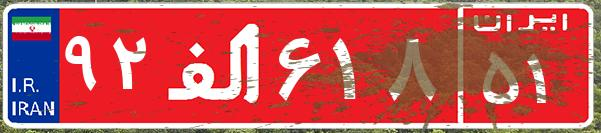1: (330, 28, 385, 110), (525, 38, 570, 115)
2: (110, 28, 158, 105)
5: (475, 38, 525, 113)
6: (273, 28, 330, 110)
8: (385, 28, 445, 110)
9: (57, 26, 110, 107)
الف: (158, 15, 273, 115)
